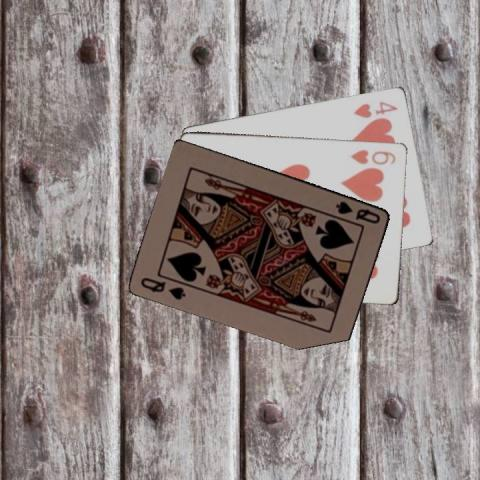4h: (351, 98, 400, 118)
6h: (348, 147, 397, 166)
Qs: (137, 274, 187, 301), (333, 198, 382, 225)
